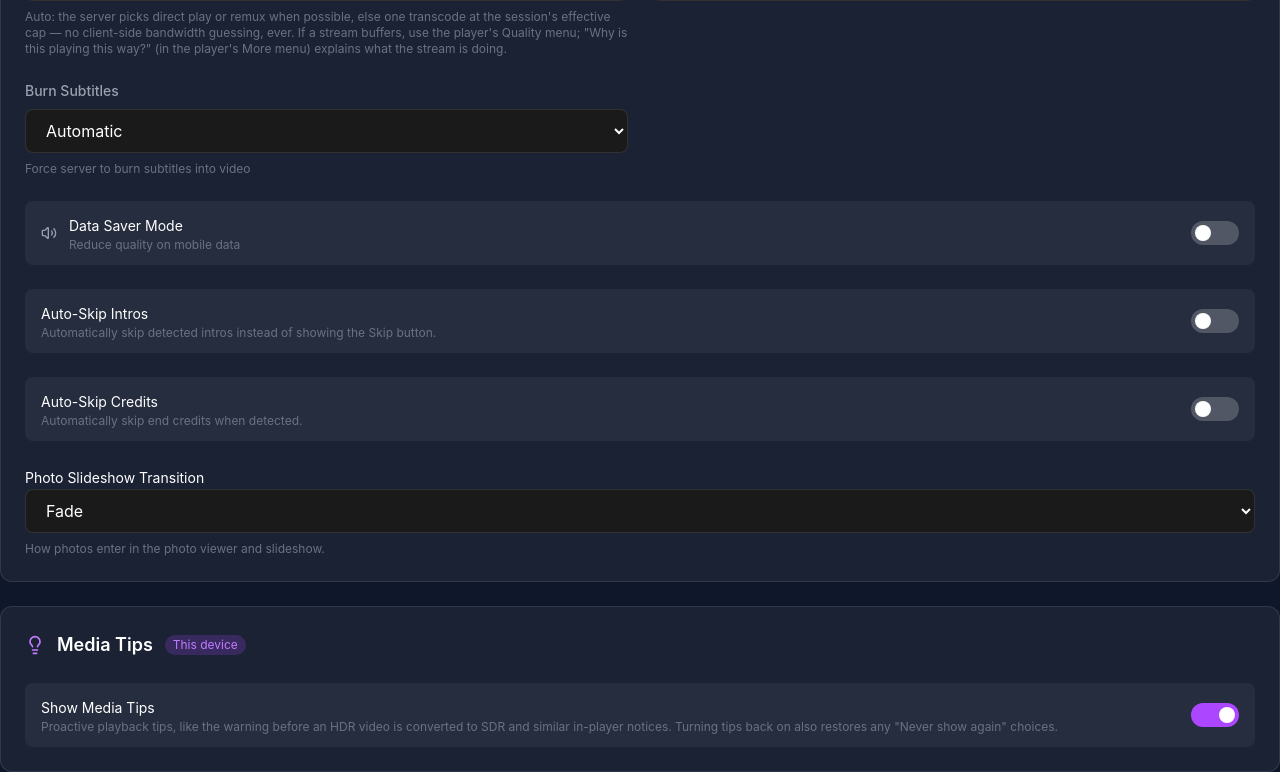
Scenario: ClientSettings — Media Tips (QS-WI-011) › "Turn off" confirms: tips disabled and persisted
This screenshot has width=1280, height=772.
(page scrolled)
Click the switch named "show media tips" at coordinates (1215, 715), box top-left (1191, 703), bottom-right (1239, 727)
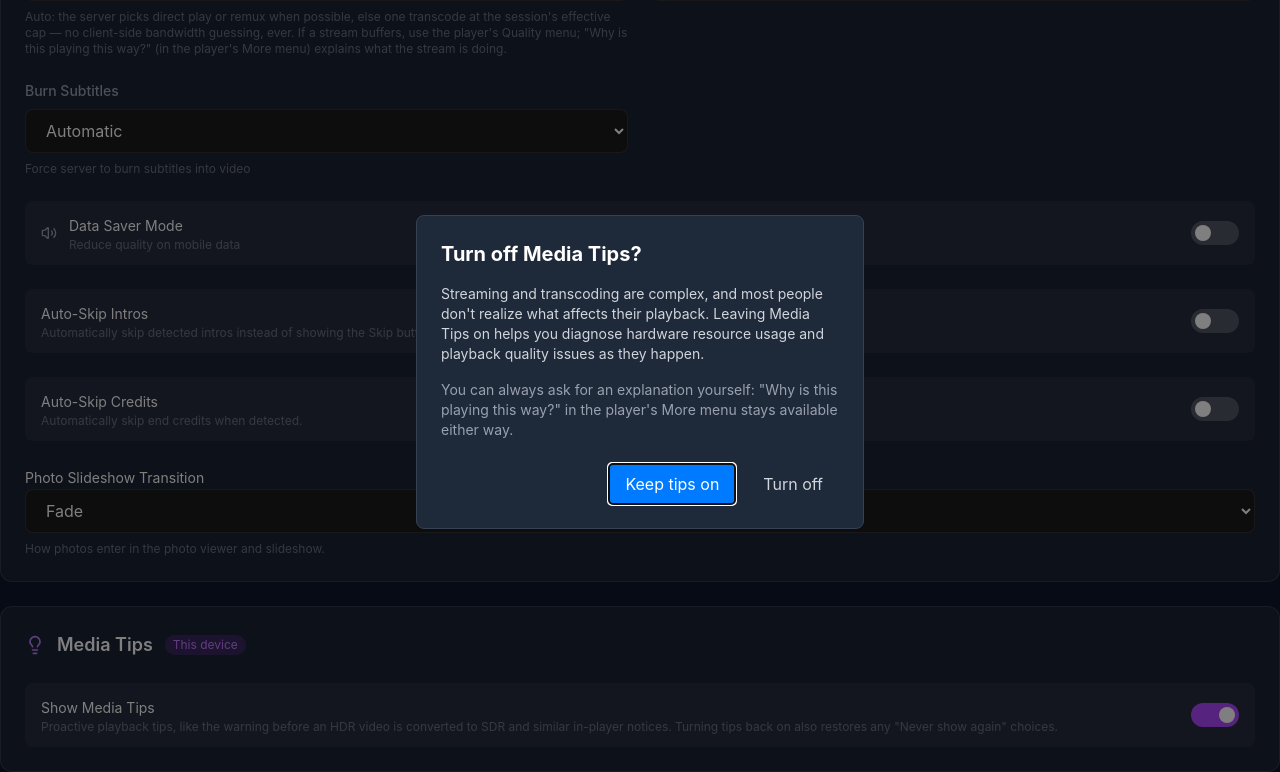
Click the button "Turn off" at coordinates (793, 484), box top-left (747, 464), bottom-right (839, 504)
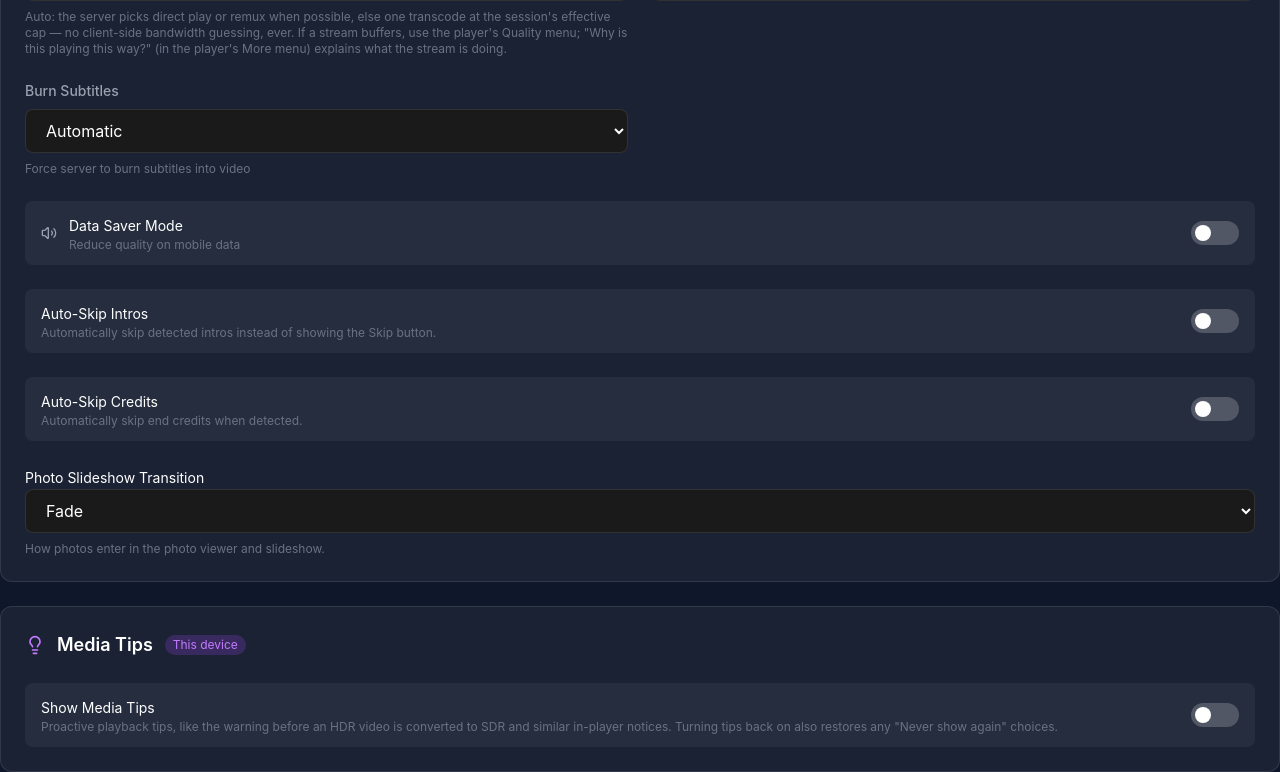
Expected: the dialog is gone
